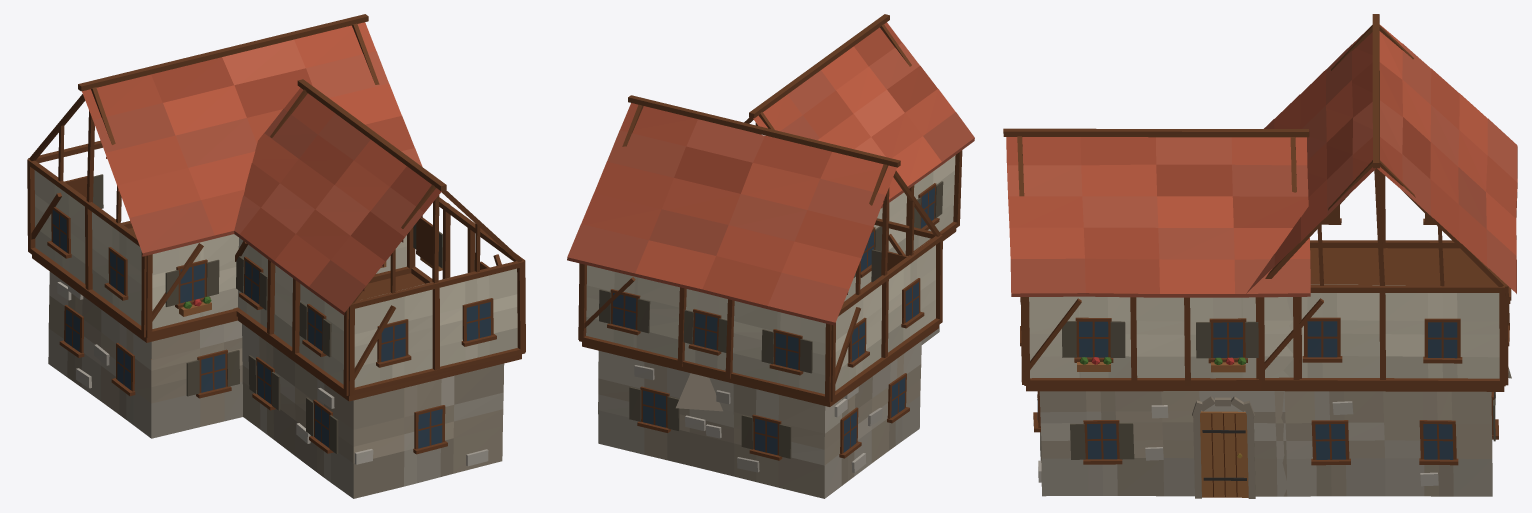
File: corner-house.glb
3 renders of one model, left to right at view 1: azimuth 30°, elevation 25°; view 2: azimuth 150°, elevation 25°; view 3: azimuth 270°, elevation 25°, orthographic. The views are drawn at different scales.
Parts seen in each view (by area): view 1: buildings/corner-house; view 2: buildings/corner-house; view 3: buildings/corner-house.
Part boxes in pixels (x1,y1,x2,y2): buildings/corner-house: (27, 14, 525, 498); buildings/corner-house: (567, 14, 974, 498); buildings/corner-house: (1003, 14, 1517, 498).
Size of the model in its own units: 7.18 by 7.76 by 10.46.
